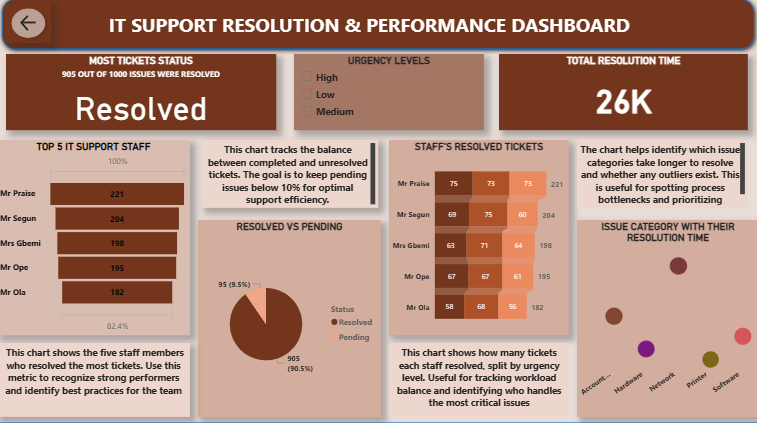

The dashboard page shown, as its layout file describes it:
{"tool":"powerbi","page":{"name":"RESOLUTION","canvas":[1280,720],"ordinal":1},"visuals":[{"type":"shape","box":[0,0,1280.2,720],"z":0},{"type":"shape","box":[0,0,1280.2,100.8],"z":1000},{"type":"textbox","box":[99.4,23,990.7,110.9],"z":2000},{"type":"card","title":"MOST TICKETS STATUS","fields":{"Values":["IT Support.Status"]},"box":[15.1,100.8,453.5,127.7],"z":3000},{"type":"card","title":"TOTAL RESOLUTION TIME","fields":{"Values":["IT Support.Resolution_Time_Hours"]},"box":[843.3,100.8,418.3,127.7],"z":4000},{"type":"slicer","title":"URGENCY LEVELS","fields":{"Values":["IT Support.Urgency_Level"]},"box":[498.9,100.8,319.2,127.7],"z":5000},{"type":"funnel","title":"TOP 5 IT SUPPORT STAFF","fields":{"Category":["IT Support.Assigned_To"],"Y":["IT Support.Ticket_ID"]},"box":[0,245.2,324.2,327.6],"z":6000},{"type":"actionButton","box":[14.4,15.8,74.9,67.7],"z":7000},{"type":"pieChart","title":"RESOLVED VS PENDING","fields":{"Y":["IT Support.Ticket_ID"],"Category":["IT Support.Status"]},"box":[337.6,379.6,307.4,330.9],"z":8000},{"type":"barChart","title":"STAFF''S RESOLVED TICKETS","fields":{"Category":["IT Support.Assigned_To"],"Series":["IT Support.Urgency_Level"],"Y":["IT Support.Ticket_ID"]},"box":[658.5,245.2,302.4,327.6],"z":9000},{"type":"scatterChart","title":"ISSUE CATEGORY WITH THEIR RESOLUTION TIME","fields":{"Y":["IT Support.Resolution_Time_Hours"],"Size":["IT Support.Ticket_ID"],"X":["IT Support.Issue_Category"]},"box":[974.3,379.6,305.7,330.9],"z":10000},{"type":"textbox","box":[344.4,245.2,295.6,114.2],"z":11000},{"type":"textbox","box":[0,586.2,324.2,124.3],"z":12000},{"type":"textbox","box":[658.5,586.2,302.4,124.3],"z":13000},{"type":"textbox","box":[974.3,245.2,287.2,114.2],"z":14000}]}

Visuals, with their boxes in screenshot pixels (x1, y1, x2, y2), scaled from the page's 1280x720 canvas onto the 757x423 screenshot:
shape: (x1=0, y1=0, x2=756, y2=422)
shape: (x1=0, y1=0, x2=756, y2=59)
textbox: (x1=59, y1=14, x2=645, y2=79)
"MOST TICKETS STATUS" card: (x1=9, y1=59, x2=277, y2=134)
"TOTAL RESOLUTION TIME" card: (x1=499, y1=59, x2=746, y2=134)
"URGENCY LEVELS" slicer: (x1=295, y1=59, x2=484, y2=134)
"TOP 5 IT SUPPORT STAFF" funnel: (x1=0, y1=144, x2=192, y2=337)
actionButton: (x1=9, y1=9, x2=53, y2=49)
"RESOLVED VS PENDING" pieChart: (x1=200, y1=223, x2=381, y2=417)
"STAFF''S RESOLVED TICKETS" barChart: (x1=389, y1=144, x2=568, y2=337)
"ISSUE CATEGORY WITH THEIR RESOLUTION TIME" scatterChart: (x1=576, y1=223, x2=756, y2=417)
textbox: (x1=204, y1=144, x2=378, y2=211)
textbox: (x1=0, y1=344, x2=192, y2=417)
textbox: (x1=389, y1=344, x2=568, y2=417)
textbox: (x1=576, y1=144, x2=746, y2=211)
